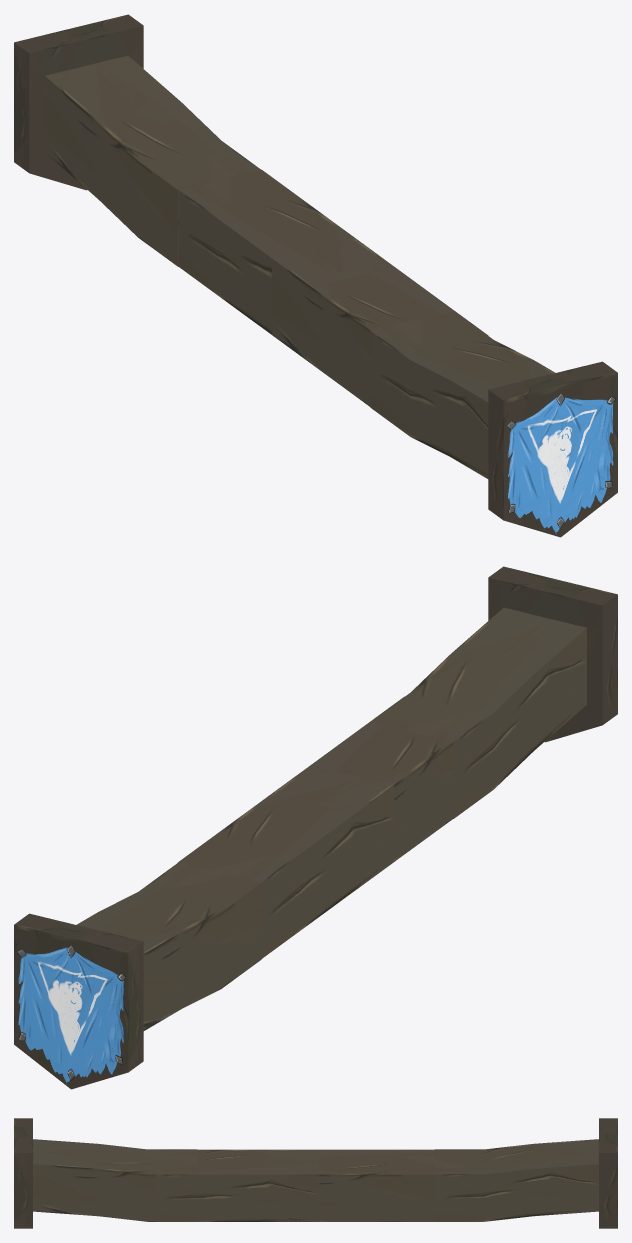
Rendered from polysurface580_txt_poutre_toit_0_lev1_lev2.glb.
The picture shows the model from 3 angles, top to bottom: view 1: azimuth 30°, elevation 25°; view 2: azimuth 150°, elevation 25°; view 3: azimuth 270°, elevation 25°; orthographic projection. The views are drawn at different scales.
Parts seen in each view (by area): view 1: polysurface580_txt_poutre_toit_0_lev1_lev2; view 2: polysurface580_txt_poutre_toit_0_lev1_lev2; view 3: polysurface580_txt_poutre_toit_0_lev1_lev2.
Part boxes in pixels (<box>): polysurface580_txt_poutre_toit_0_lev1_lev2: <box>14,14,617,537</box>; polysurface580_txt_poutre_toit_0_lev1_lev2: <box>14,566,617,1089</box>; polysurface580_txt_poutre_toit_0_lev1_lev2: <box>14,1118,617,1228</box>.
Size of the model in its own units: 1.08 by 1.36 by 7.97.
1 material, 1 textured.
